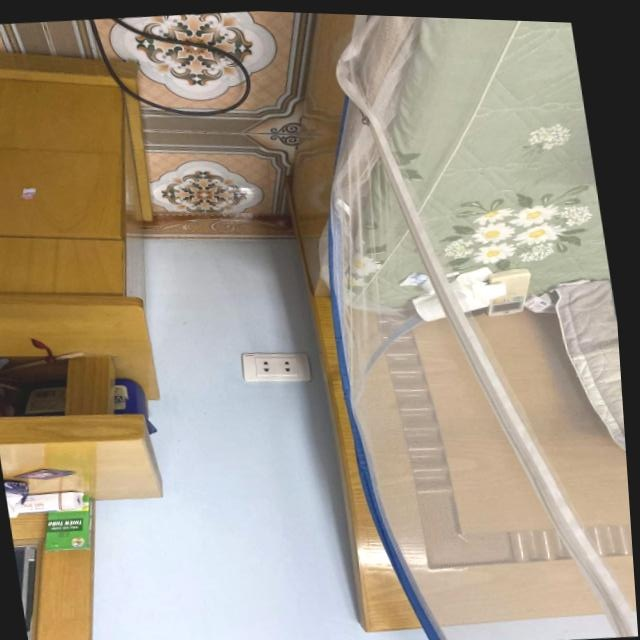outlet: (237, 348, 313, 388)
